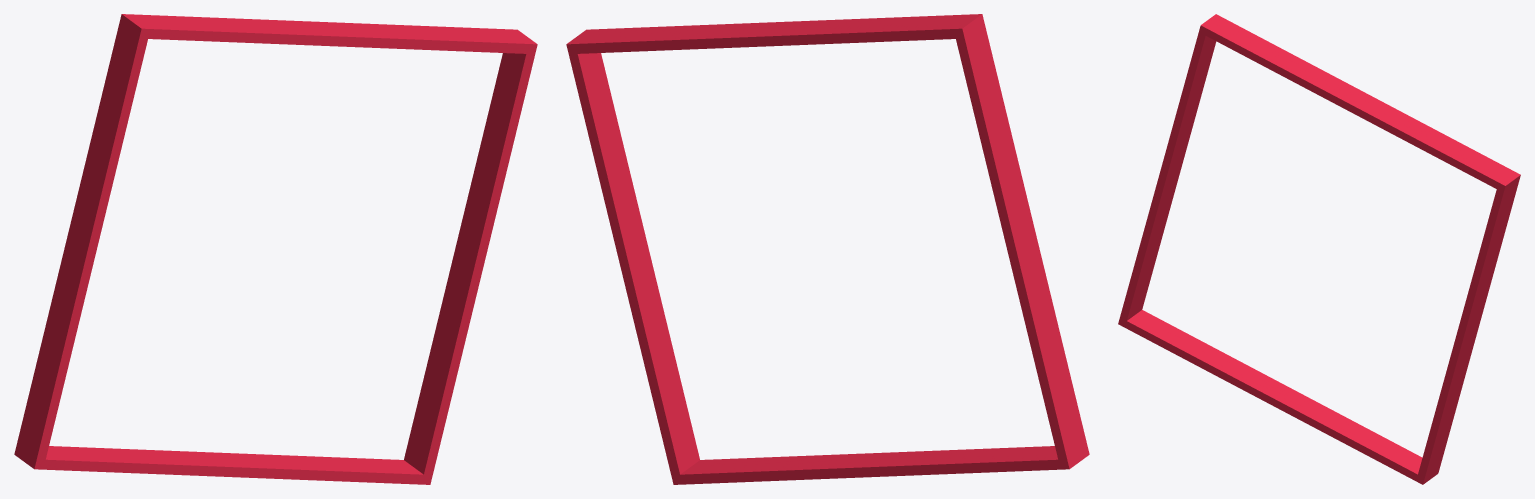
File: tangram12.gltf
3 views of the same model, side by side, from view 1: azimuth 30°, elevation 25°; view 2: azimuth 150°, elevation 25°; view 3: azimuth 330°, elevation 25° (orthographic). The views are drawn at different scales.
Size of the model in its own units: 0.0869 by 0.0869 by 0.006.
